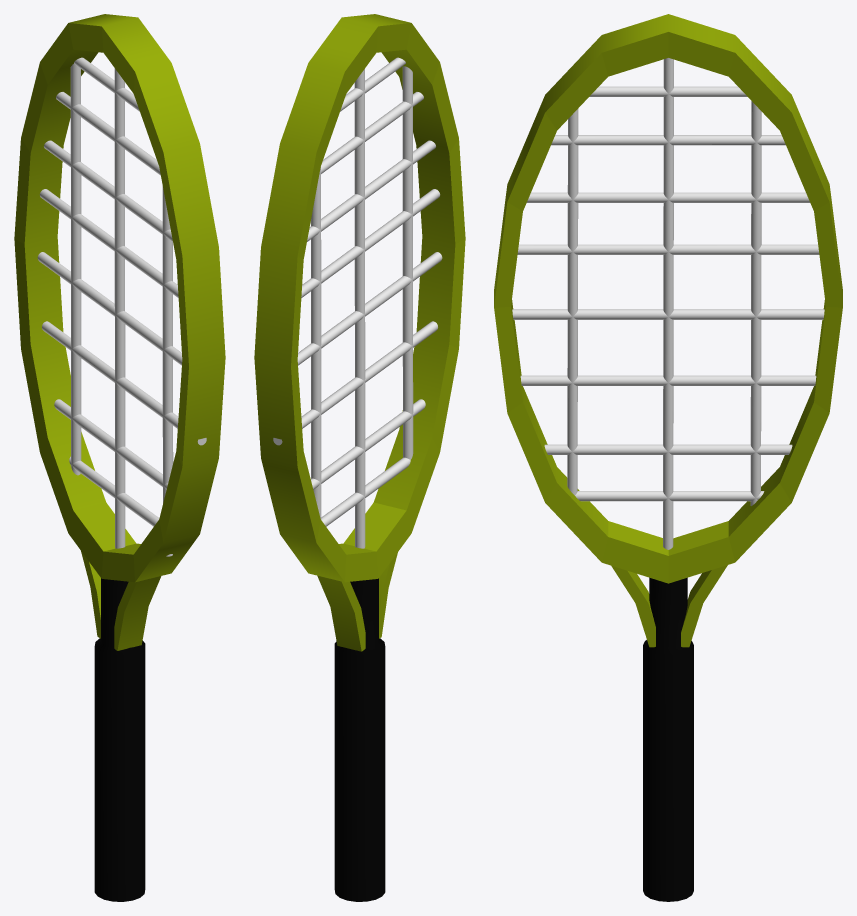
File: GameJamTennisRacket.fbx
3 renders of one model, left to right at view 1: azimuth 30°, elevation 25°; view 2: azimuth 150°, elevation 25°; view 3: azimuth 270°, elevation 25°, orthographic.
Visible parts, largest first — view 1: pCylinder14; view 2: pCylinder14; view 3: pCylinder14.
Part boxes in pixels (<box>): pCylinder14: <box>14,14,225,901</box>; pCylinder14: <box>254,14,465,901</box>; pCylinder14: <box>494,14,842,901</box>.
Bounding box in the file's own units: 0.5085 × 9.58 × 3.49.
